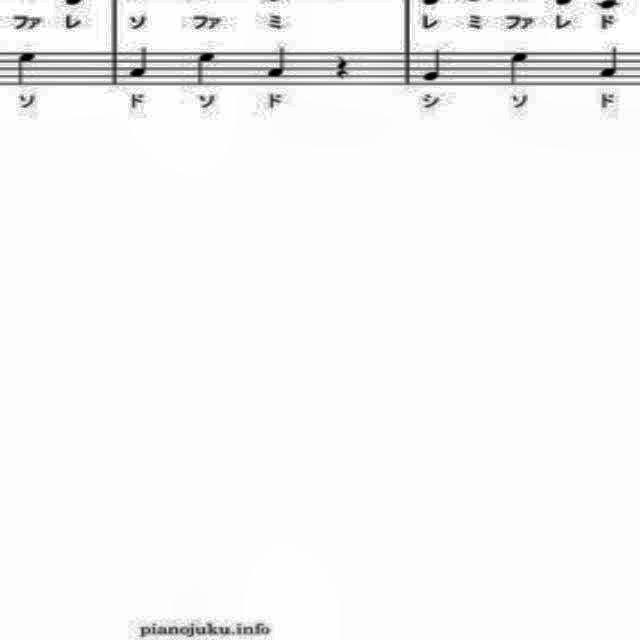Quarter-note: (194, 48, 222, 88), (260, 40, 288, 80), (596, 44, 624, 80), (508, 50, 532, 90), (15, 48, 40, 86), (127, 46, 153, 82), (421, 48, 447, 84)
Quarter-rest: (327, 55, 358, 85)
